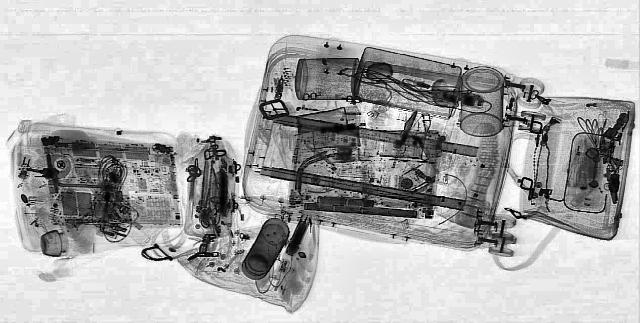Knife: (393, 109, 423, 144)
